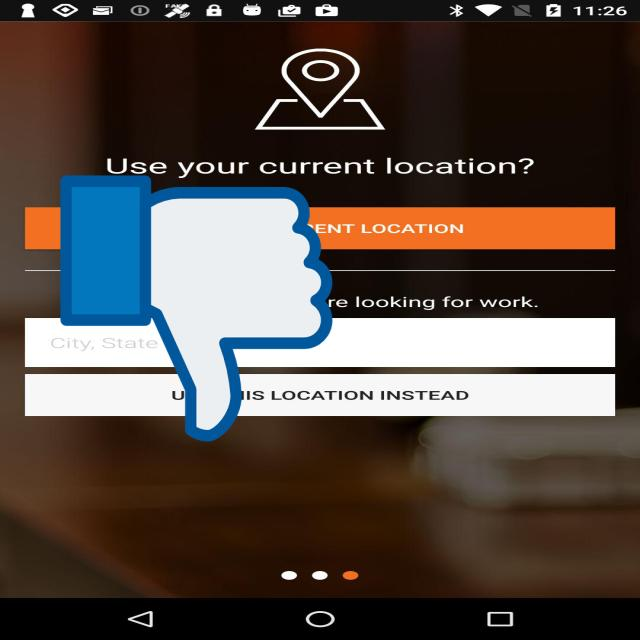obstruction: (60, 170, 332, 447)
